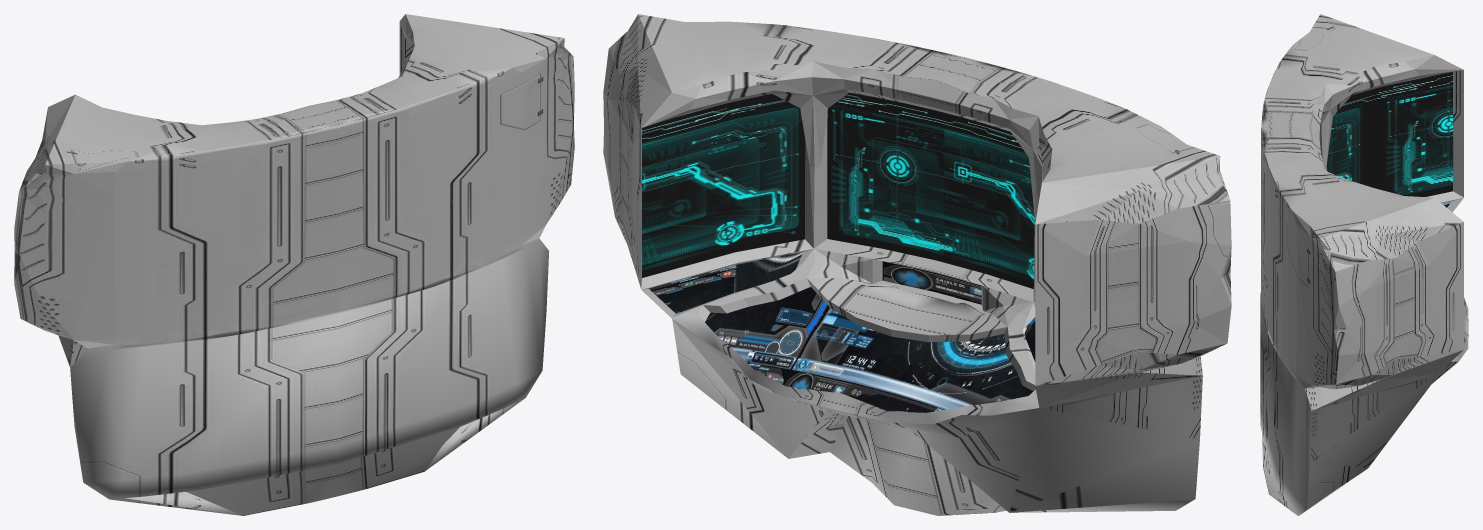
The model's file is wall_console.glb.
3 renders of one model, left to right at view 1: azimuth 30°, elevation 25°; view 2: azimuth 150°, elevation 25°; view 3: azimuth 270°, elevation 25°, orthographic. The views are drawn at different scales.
Parts seen in each view (by area): view 1: MaterialFBXASC032FBXASC0352142150880; view 2: MaterialFBXASC032FBXASC0352142150880, MaterialFBXASC032FBXASC0352142148966, MaterialFBXASC032FBXASC0352142148017, MaterialFBXASC032FBXASC0352142148579; view 3: MaterialFBXASC032FBXASC0352142150880, MaterialFBXASC032FBXASC0352142148966.
Part boxes in pixels (box(x1,y1,x2,y2)): MaterialFBXASC032FBXASC0352142150880: box(14, 14, 574, 515); MaterialFBXASC032FBXASC0352142150880: box(603, 14, 1231, 515); MaterialFBXASC032FBXASC0352142148966: box(642, 92, 1034, 288); MaterialFBXASC032FBXASC0352142148017: box(705, 287, 1033, 412); MaterialFBXASC032FBXASC0352142148579: box(649, 252, 1035, 361); MaterialFBXASC032FBXASC0352142150880: box(1260, 14, 1468, 515); MaterialFBXASC032FBXASC0352142148966: box(1326, 72, 1452, 196).
Bounding box in the file's own units: 26.48 × 16.76 × 9.61.
4 materials, 4 textured.
